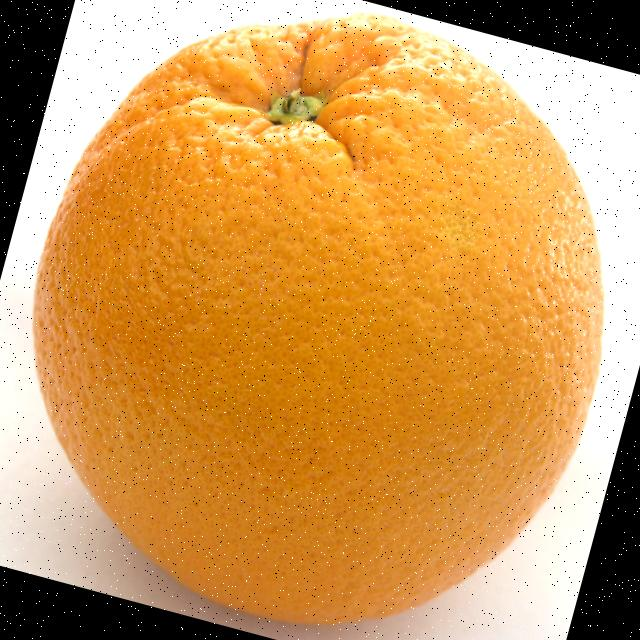orange: (32, 12, 604, 624)
